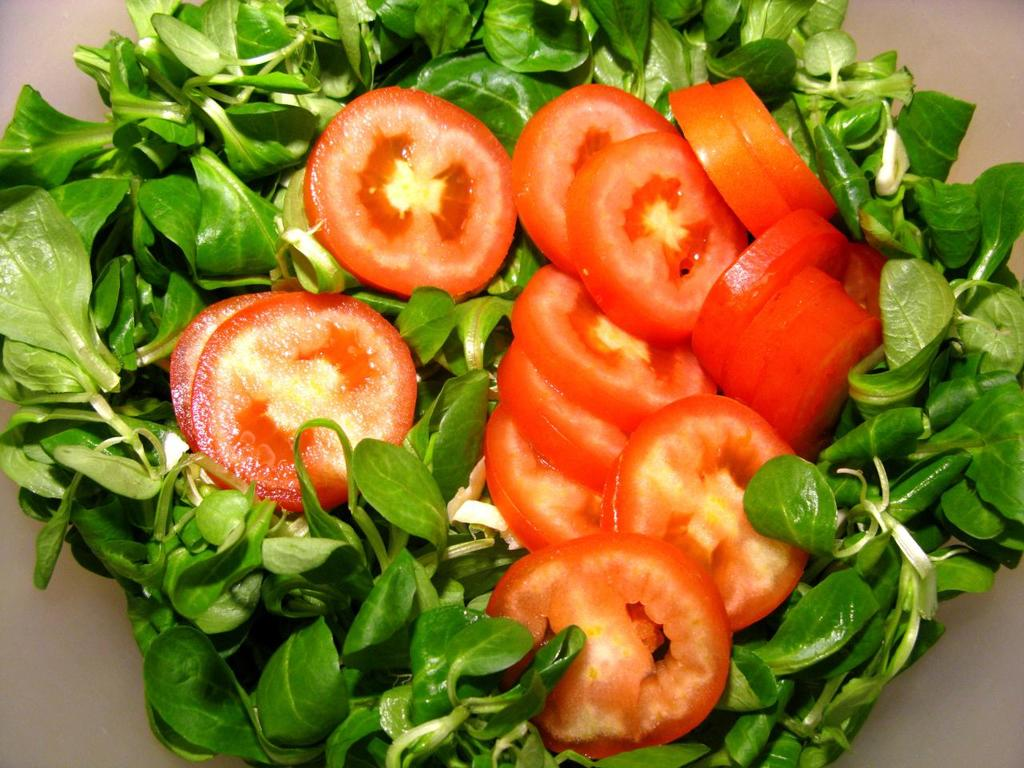Tomato: (479, 79, 902, 764), (188, 291, 428, 514), (296, 85, 525, 287), (167, 287, 274, 452)
